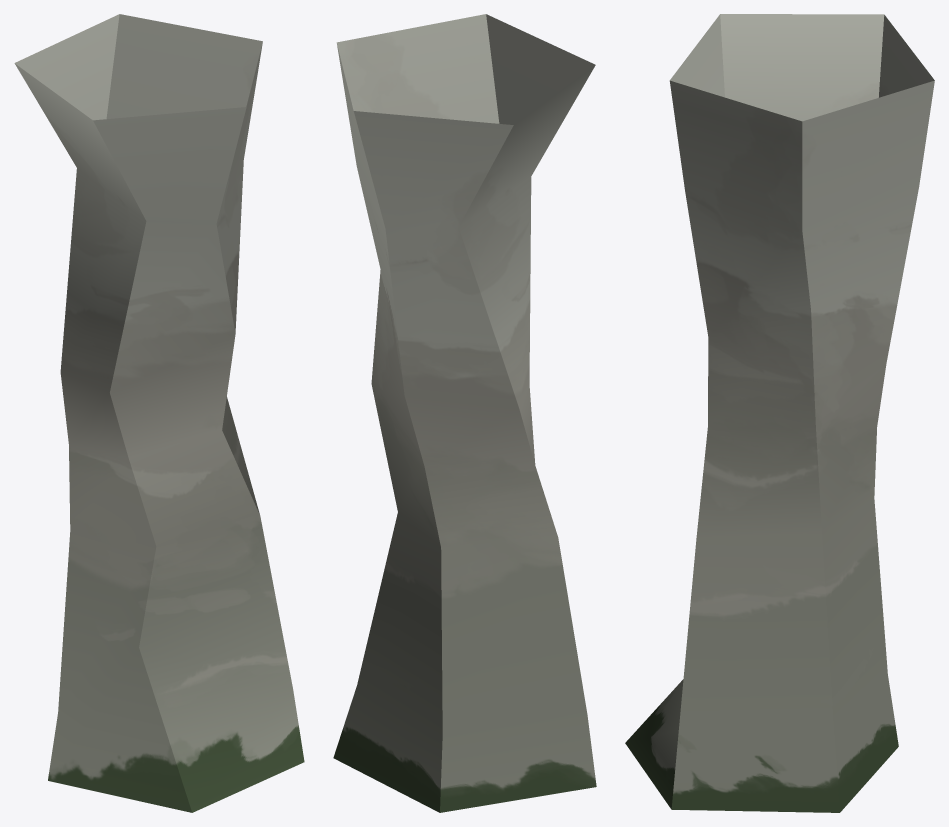
File: Column.fbx
The picture shows the model from 3 angles, left to right: view 1: azimuth 30°, elevation 25°; view 2: azimuth 150°, elevation 25°; view 3: azimuth 270°, elevation 25°; orthographic projection. The views are drawn at different scales.
Parts seen in each view (by area): view 1: Column; view 2: Column; view 3: Column.
Boxes of the visible parts, x1,y1,x2,y2 form: Column: (14, 14, 304, 812); Column: (333, 14, 596, 812); Column: (625, 14, 934, 812).
Bounding box in the file's own units: 4.23 × 11.69 × 4.68.
